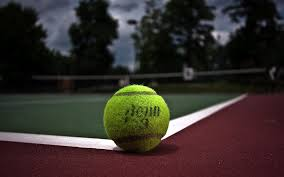tennis_ball: (102, 83, 171, 155)
